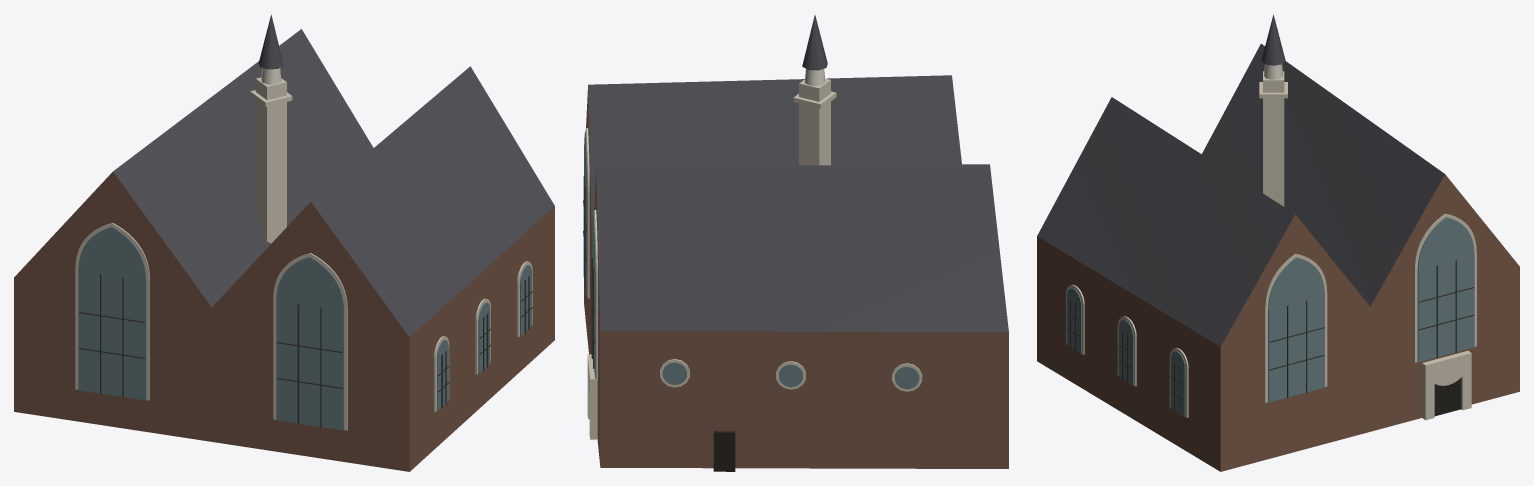
Rendered from sint-olofskapel.glb.
The picture shows the model from 3 angles, left to right: view 1: azimuth 30°, elevation 25°; view 2: azimuth 150°, elevation 25°; view 3: azimuth 270°, elevation 25°; orthographic projection. The views are drawn at different scales.
Visible parts, largest first — view 1: sint-olofskapel; view 2: sint-olofskapel; view 3: sint-olofskapel.
Part boxes in pixels (x1,y1,x2,y2): sint-olofskapel: (14, 14, 554, 471); sint-olofskapel: (583, 15, 1008, 471); sint-olofskapel: (1037, 14, 1519, 471).
Size of the model in its own units: 33.94 by 24.9 by 31.85.
